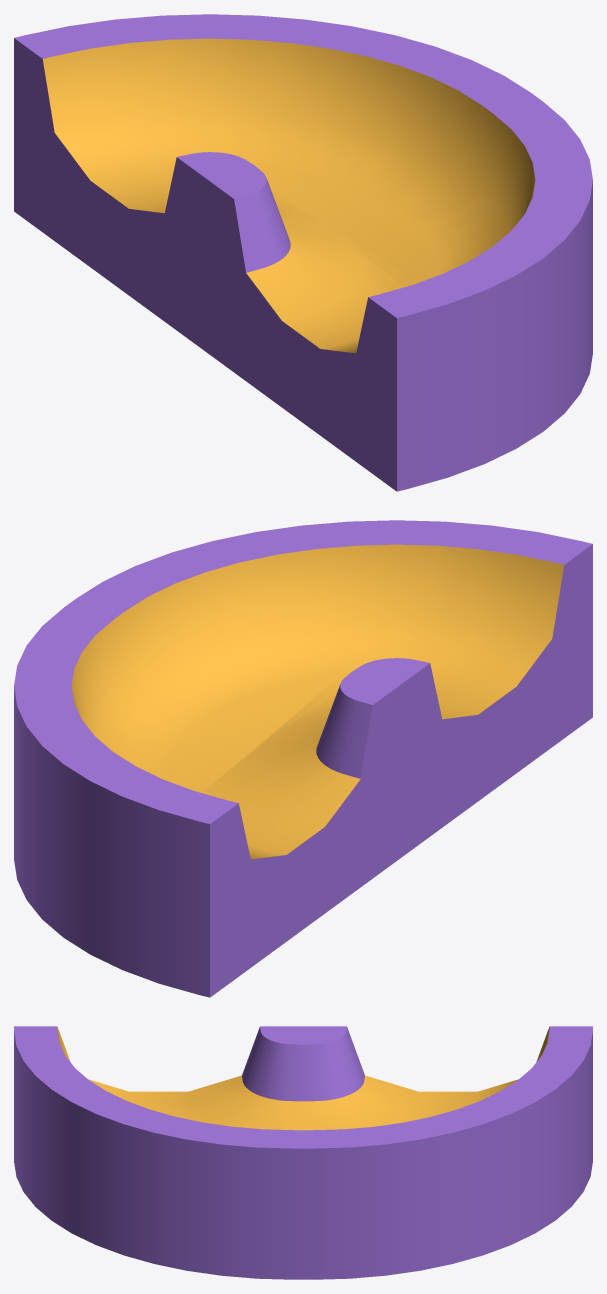
Rendered from kenney-marble-bend.glb.
3 renders of one model, top to bottom at view 1: azimuth 30°, elevation 25°; view 2: azimuth 150°, elevation 25°; view 3: azimuth 270°, elevation 25°, orthographic. The views are drawn at different scales.
Visible parts, largest first — view 1: bend; view 2: bend; view 3: bend.
Boxes of the visible parts, box(x1,y1,x2,y2) form: bend: box(14, 14, 592, 491); bend: box(14, 520, 592, 997); bend: box(14, 1026, 592, 1279).
Size of the model in its own units: 1 by 0.5001 by 2.
1 material, 1 textured.
